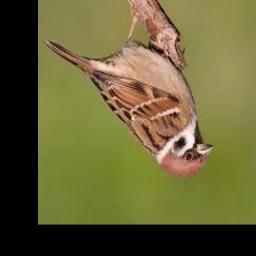Sparrow: (45, 17, 215, 177)
